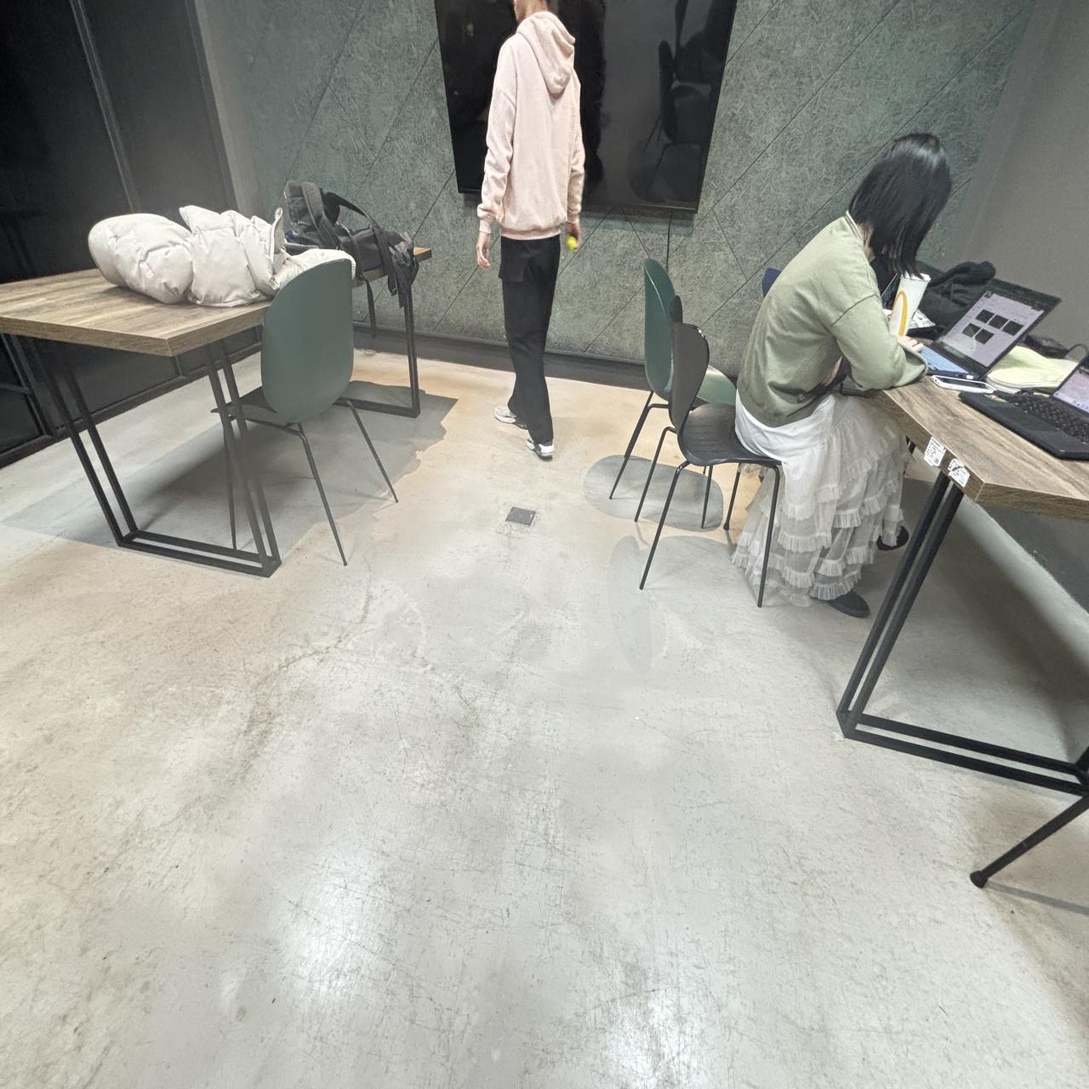person: (733, 130, 952, 622), (476, 0, 584, 459)
tennisball: (567, 236, 577, 250)
